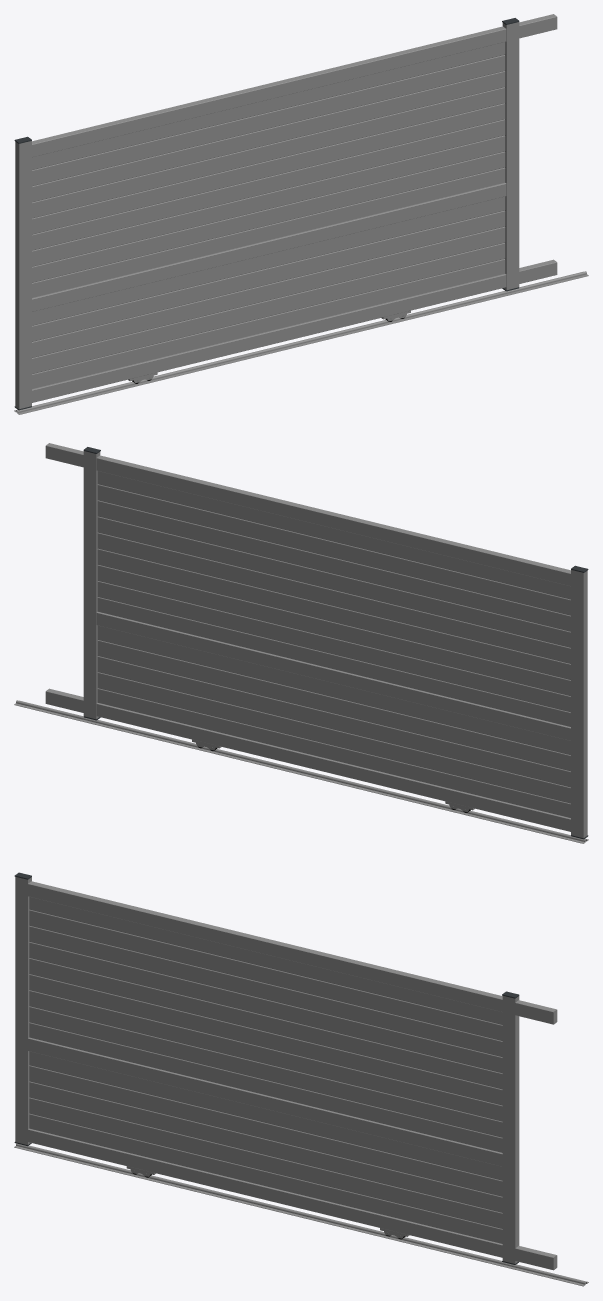
The picture shows the model from 3 angles, top to bottom: view 1: azimuth 30°, elevation 25°; view 2: azimuth 150°, elevation 25°; view 3: azimuth 330°, elevation 25°; orthographic projection.
Visible parts, largest first — view 1: Shape042, Shape107412766, Shape107412758, Shape107412760, Shape107412763, Shape107412757, Shape107412759, Shape107412762, Shape107412768, Shape107412761, Shape107412767, Shape040 (+8 smaller); view 2: Shape042, Shape107412757, Shape107412761, Shape107412767, Shape107412758, Shape107412766, Shape107412759, Shape107412760, Shape107412763, Shape107412768, Shape107412762, Shape040 (+8 smaller); view 3: Shape042, Shape107412761, Shape107412766, Shape107412757, Shape107412762, Shape107412767, Shape107412759, Shape107412760, Shape107412763, Shape107412768, Shape107412758, Shape040 (+8 smaller).
Boxes of the visible parts, box(x1,y1,x2,y2) form: Shape042: box(32, 14, 557, 157); Shape107412766: box(32, 210, 505, 341); Shape107412758: box(32, 71, 505, 202); Shape107412760: box(32, 103, 505, 234); Shape107412763: box(32, 151, 505, 282); Shape107412757: box(32, 55, 505, 186); Shape107412759: box(32, 87, 505, 218); Shape107412762: box(32, 135, 505, 266); Shape107412768: box(32, 243, 505, 373); Shape107412761: box(32, 119, 505, 250); Shape107412767: box(32, 226, 505, 357); Shape040: box(32, 259, 557, 402); Shape042: box(45, 443, 570, 586); Shape107412757: box(97, 484, 570, 615); Shape107412761: box(97, 548, 570, 679); Shape107412767: box(97, 656, 570, 787); Shape107412758: box(97, 500, 570, 631); Shape107412766: box(97, 640, 570, 771); Shape107412759: box(97, 516, 570, 647); Shape107412760: box(97, 532, 570, 663); Shape107412763: box(97, 581, 570, 712); Shape107412768: box(97, 672, 570, 803); Shape107412762: box(97, 565, 570, 696); Shape040: box(45, 688, 570, 831); Shape042: box(28, 881, 557, 1024); Shape107412761: box(29, 974, 502, 1105); Shape107412766: box(29, 1065, 502, 1196); Shape107412757: box(29, 909, 502, 1040); Shape107412762: box(29, 990, 502, 1121); Shape107412767: box(29, 1081, 502, 1212); Shape107412759: box(29, 942, 502, 1073); Shape107412760: box(29, 958, 502, 1089); Shape107412763: box(29, 1006, 502, 1137); Shape107412768: box(29, 1097, 502, 1228); Shape107412758: box(29, 926, 502, 1057); Shape040: box(28, 1128, 557, 1270).
Bounding box in the file's own units: 3600 × 1640 × 60.02.
5 materials, 2 textured.
